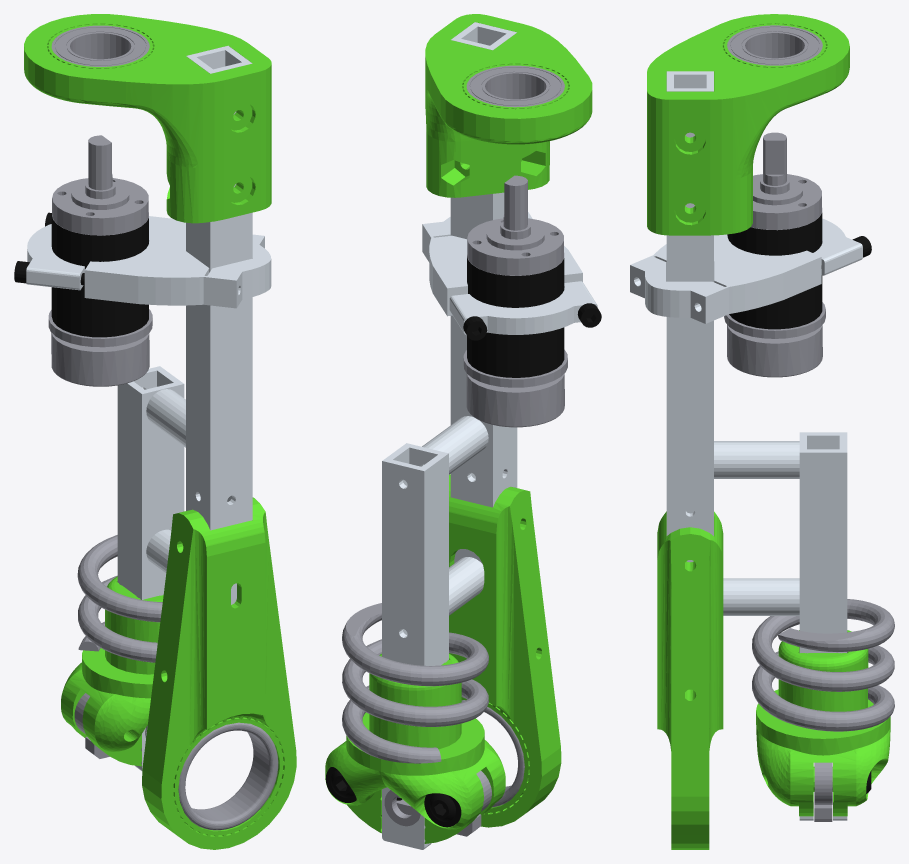
The model's file is sea_arm_01_assem_04_upper_arm_link_right.dae.
The picture shows the model from 3 angles, left to right: view 1: azimuth 30°, elevation 25°; view 2: azimuth 150°, elevation 25°; view 3: azimuth 270°, elevation 25°; orthographic projection. The views are drawn at different scales.
Visible parts, largest first — view 1: SEA_Arm_01_Assem_04_Square_Humerus_-_Humerus_Elbow_07-1, SEA_Arm_01_Assem_04_Square_Humerus_-_EC32Bearing_Support_Hum, SEA_Arm_01_Assem_04_Square_Humerus_-_Humerus_Tube_03-1, SEA_Arm_01_Assem_04_Square_Humerus_-_32_ECFlat_02-1, SEA_Arm_01_Assem_04_Square_Humerus_-_SEA_Tube_03-1, SEA_Arm_01_Assem_04_Square_Humerus_-_1_25_03_LASER_02-2, SEA_Arm_01_Assem_04_Square_Humerus_-_Sliding_Tube_11-1, SEA_Arm_01_Assem_04_Square_Humerus_-_Spiral_Spring_02-1, SEA_Arm_01_Assem_04_Square_Humerus_-_1_25_Needle-1, SEA_Arm_01_Assem_04_Square_Humerus_-_20x32x10-1, SEA_Arm_01_Assem_04_Square_Humerus_-_6mm_Motor_Clamp_02-1, SEA_Arm_01_Assem_04_Square_Humerus_-_Elbow_Tube_Spacer-2 (+1 smaller); view 2: SEA_Arm_01_Assem_04_Square_Humerus_-_Humerus_Elbow_07-1, SEA_Arm_01_Assem_04_Square_Humerus_-_EC32Bearing_Support_Hum, SEA_Arm_01_Assem_04_Square_Humerus_-_32_ECFlat_02-1, SEA_Arm_01_Assem_04_Square_Humerus_-_SEA_Tube_03-1, SEA_Arm_01_Assem_04_Square_Humerus_-_Sliding_Tube_11-1, SEA_Arm_01_Assem_04_Square_Humerus_-_Spiral_Spring_02-1, SEA_Arm_01_Assem_04_Square_Humerus_-_Humerus_Tube_03-1, SEA_Arm_01_Assem_04_Square_Humerus_-_6mm_Motor_Clamp_02-1, SEA_Arm_01_Assem_04_Square_Humerus_-_1_25_03_LASER_02-2, SEA_Arm_01_Assem_04_Square_Humerus_-_20x32x10-1, SEA_Arm_01_Assem_04_Square_Humerus_-_Elbow_Tube_Spacer-2, SEA_Arm_01_Assem_04_Square_Humerus_-_Elbow_Tube_Spacer-1 (+4 smaller); view 3: SEA_Arm_01_Assem_04_Square_Humerus_-_EC32Bearing_Support_Hum, SEA_Arm_01_Assem_04_Square_Humerus_-_Humerus_Elbow_07-1, SEA_Arm_01_Assem_04_Square_Humerus_-_32_ECFlat_02-1, SEA_Arm_01_Assem_04_Square_Humerus_-_Humerus_Tube_03-1, SEA_Arm_01_Assem_04_Square_Humerus_-_Sliding_Tube_11-1, SEA_Arm_01_Assem_04_Square_Humerus_-_Spiral_Spring_02-1, SEA_Arm_01_Assem_04_Square_Humerus_-_SEA_Tube_03-1, SEA_Arm_01_Assem_04_Square_Humerus_-_1_25_03_LASER_02-2, SEA_Arm_01_Assem_04_Square_Humerus_-_Elbow_Tube_Spacer-2, SEA_Arm_01_Assem_04_Square_Humerus_-_20x32x10-1, SEA_Arm_01_Assem_04_Square_Humerus_-_Elbow_Tube_Spacer-1, SEA_Arm_01_Assem_04_Square_Humerus_-_6mm_Motor_Clamp_02-1 (+1 smaller).
Part boxes in pixels (x1,y1,x2,y2): SEA_Arm_01_Assem_04_Square_Humerus_-_Humerus_Elbow_07-1: (142, 497, 296, 849); SEA_Arm_01_Assem_04_Square_Humerus_-_EC32Bearing_Support_Hum: (24, 14, 271, 223); SEA_Arm_01_Assem_04_Square_Humerus_-_Humerus_Tube_03-1: (186, 45, 252, 604); SEA_Arm_01_Assem_04_Square_Humerus_-_32_ECFlat_02-1: (48, 135, 152, 386); SEA_Arm_01_Assem_04_Square_Humerus_-_SEA_Tube_03-1: (117, 366, 184, 770); SEA_Arm_01_Assem_04_Square_Humerus_-_1_25_03_LASER_02-2: (84, 216, 271, 308); SEA_Arm_01_Assem_04_Square_Humerus_-_Sliding_Tube_11-1: (61, 576, 163, 766); SEA_Arm_01_Assem_04_Square_Humerus_-_Spiral_Spring_02-1: (77, 535, 162, 662); SEA_Arm_01_Assem_04_Square_Humerus_-_1_25_Needle-1: (178, 722, 278, 830); SEA_Arm_01_Assem_04_Square_Humerus_-_20x32x10-1: (51, 25, 149, 66); SEA_Arm_01_Assem_04_Square_Humerus_-_6mm_Motor_Clamp_02-1: (26, 224, 84, 290); SEA_Arm_01_Assem_04_Square_Humerus_-_Elbow_Tube_Spacer-2: (146, 389, 185, 447); SEA_Arm_01_Assem_04_Square_Humerus_-_Humerus_Elbow_07-1: (449, 474, 561, 827); SEA_Arm_01_Assem_04_Square_Humerus_-_EC32Bearing_Support_Hum: (425, 14, 592, 197); SEA_Arm_01_Assem_04_Square_Humerus_-_32_ECFlat_02-1: (463, 175, 567, 427); SEA_Arm_01_Assem_04_Square_Humerus_-_SEA_Tube_03-1: (382, 443, 448, 849); SEA_Arm_01_Assem_04_Square_Humerus_-_Sliding_Tube_11-1: (325, 653, 505, 843); SEA_Arm_01_Assem_04_Square_Humerus_-_Spiral_Spring_02-1: (342, 603, 488, 763); SEA_Arm_01_Assem_04_Square_Humerus_-_Humerus_Tube_03-1: (450, 22, 517, 564); SEA_Arm_01_Assem_04_Square_Humerus_-_6mm_Motor_Clamp_02-1: (449, 281, 597, 334); SEA_Arm_01_Assem_04_Square_Humerus_-_1_25_03_LASER_02-2: (422, 212, 582, 316); SEA_Arm_01_Assem_04_Square_Humerus_-_20x32x10-1: (466, 65, 564, 107); SEA_Arm_01_Assem_04_Square_Humerus_-_Elbow_Tube_Spacer-2: (422, 416, 488, 474); SEA_Arm_01_Assem_04_Square_Humerus_-_Elbow_Tube_Spacer-1: (449, 557, 484, 615); SEA_Arm_01_Assem_04_Square_Humerus_-_EC32Bearing_Support_Hum: (647, 14, 849, 235); SEA_Arm_01_Assem_04_Square_Humerus_-_Humerus_Elbow_07-1: (657, 511, 723, 849); SEA_Arm_01_Assem_04_Square_Humerus_-_32_ECFlat_02-1: (724, 132, 825, 377); SEA_Arm_01_Assem_04_Square_Humerus_-_Humerus_Tube_03-1: (666, 71, 713, 562); SEA_Arm_01_Assem_04_Square_Humerus_-_Sliding_Tube_11-1: (756, 630, 890, 816); SEA_Arm_01_Assem_04_Square_Humerus_-_Spiral_Spring_02-1: (752, 599, 894, 731); SEA_Arm_01_Assem_04_Square_Humerus_-_SEA_Tube_03-1: (799, 432, 847, 820); SEA_Arm_01_Assem_04_Square_Humerus_-_1_25_03_LASER_02-2: (630, 234, 821, 323); SEA_Arm_01_Assem_04_Square_Humerus_-_Elbow_Tube_Spacer-2: (714, 441, 799, 478); SEA_Arm_01_Assem_04_Square_Humerus_-_20x32x10-1: (727, 25, 822, 65); SEA_Arm_01_Assem_04_Square_Humerus_-_Elbow_Tube_Spacer-1: (723, 578, 799, 615); SEA_Arm_01_Assem_04_Square_Humerus_-_6mm_Motor_Clamp_02-1: (813, 218, 862, 275).
Bounding box in the file's own units: 0.0881 × 0.0885 × 0.2805.
